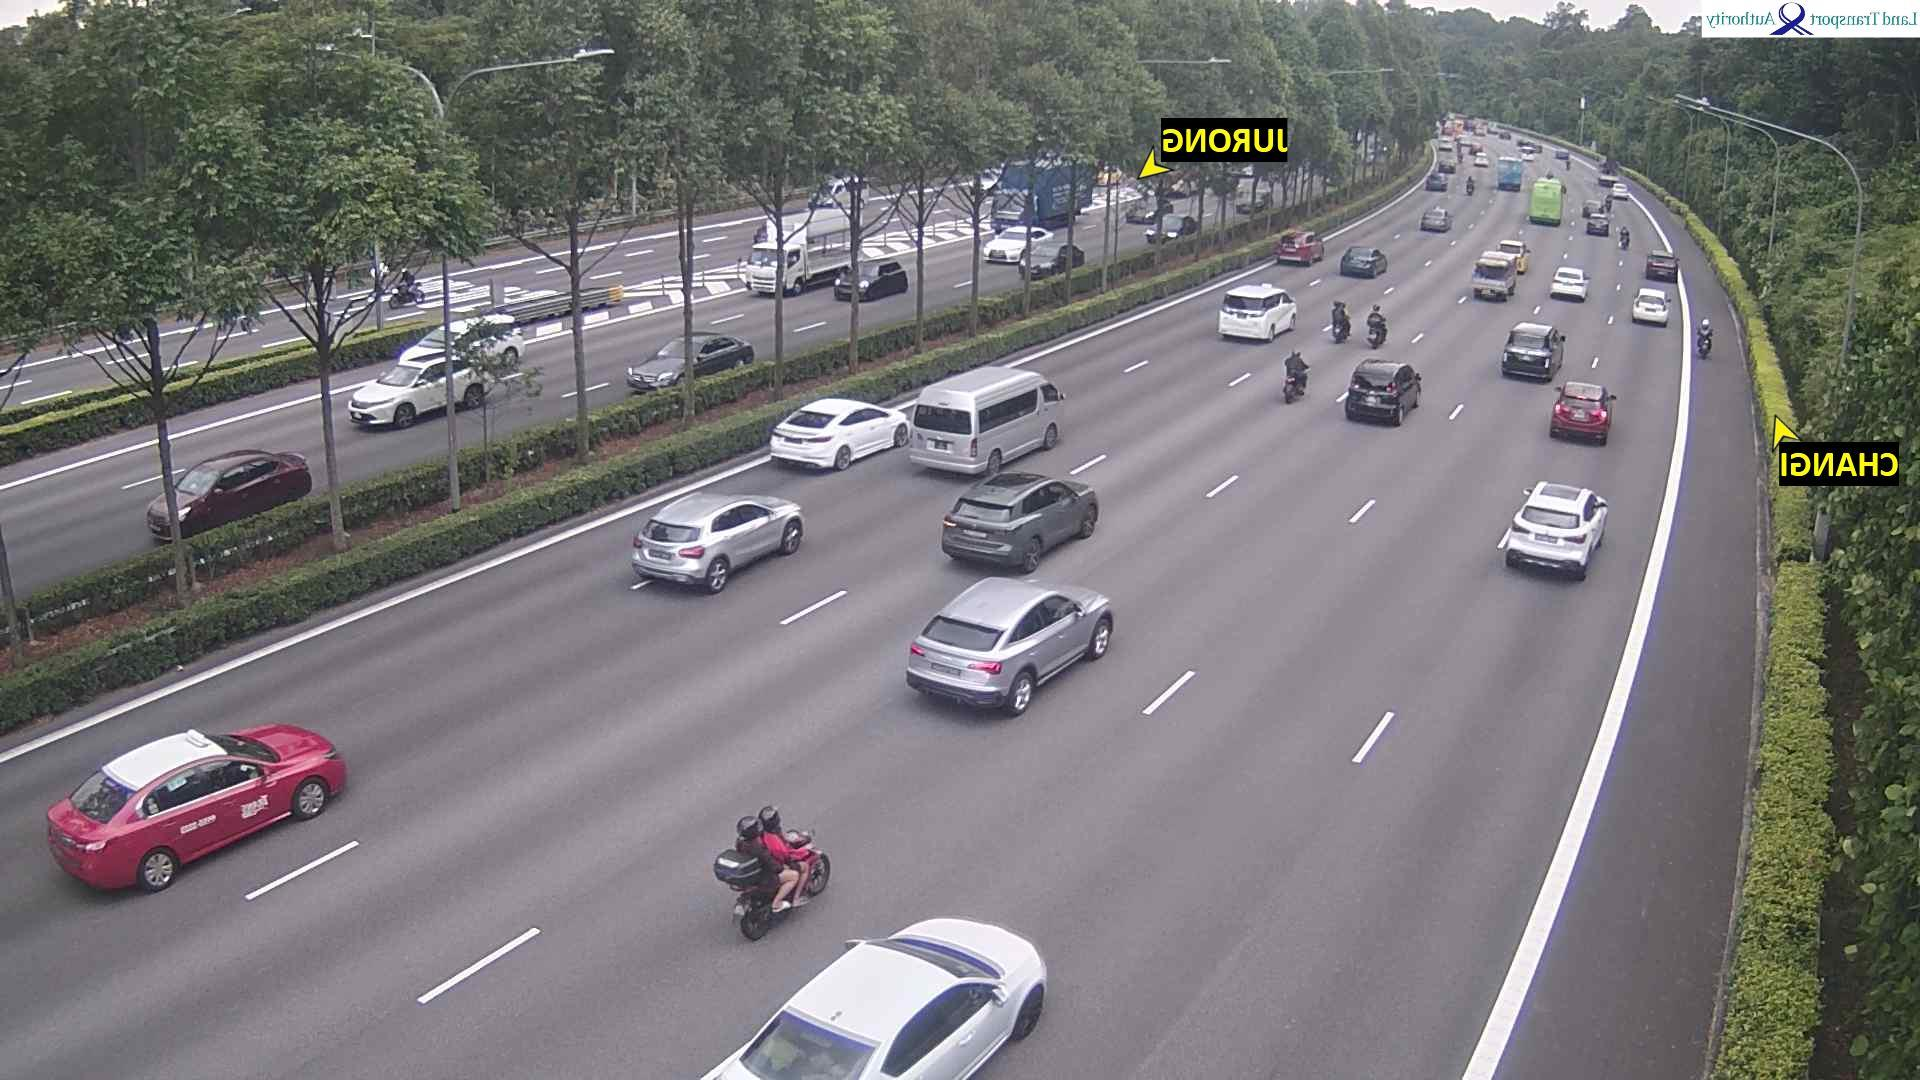cars: (700, 915, 1048, 1079), (46, 721, 348, 893), (906, 574, 1116, 716), (632, 491, 804, 593), (909, 365, 1067, 476), (942, 469, 1100, 572), (146, 447, 313, 543), (348, 349, 496, 429), (1498, 479, 1610, 580), (769, 396, 913, 472), (626, 331, 756, 394), (400, 313, 527, 371), (1345, 357, 1423, 426), (1218, 281, 1298, 342), (1549, 378, 1617, 444), (1501, 320, 1567, 382), (833, 258, 909, 302), (984, 223, 1054, 264), (1021, 240, 1087, 280), (1472, 251, 1519, 301), (808, 171, 870, 210), (1276, 228, 1327, 265), (1228, 179, 1275, 218), (1146, 212, 1200, 244), (1340, 244, 1389, 278), (1633, 286, 1672, 324), (1551, 265, 1592, 301), (1127, 195, 1174, 223), (1497, 237, 1531, 273), (1646, 249, 1679, 282), (1497, 156, 1524, 191), (1422, 204, 1455, 232), (1586, 211, 1611, 235), (1431, 153, 1457, 174), (1600, 160, 1619, 185), (1518, 140, 1542, 160), (1610, 181, 1631, 200), (1425, 171, 1448, 190), (1582, 199, 1604, 216), (1453, 133, 1476, 148), (1473, 149, 1491, 166), (1437, 135, 1455, 150), (1553, 148, 1571, 162), (1469, 141, 1485, 156), (1498, 129, 1513, 141)
motorcycle: (713, 823, 832, 942), (384, 262, 427, 313), (1283, 363, 1309, 404), (1331, 299, 1352, 343), (1367, 315, 1389, 349), (1697, 320, 1714, 357), (1617, 223, 1631, 252), (1462, 173, 1477, 198), (1602, 194, 1614, 214), (1565, 158, 1575, 173), (1456, 148, 1464, 164)
trucks: (731, 204, 865, 298), (986, 148, 1097, 237), (1528, 174, 1567, 225)
